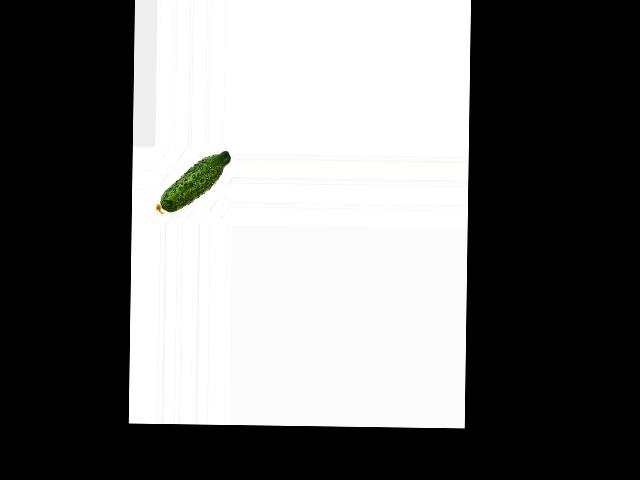cucumber: (155, 149, 230, 214)
